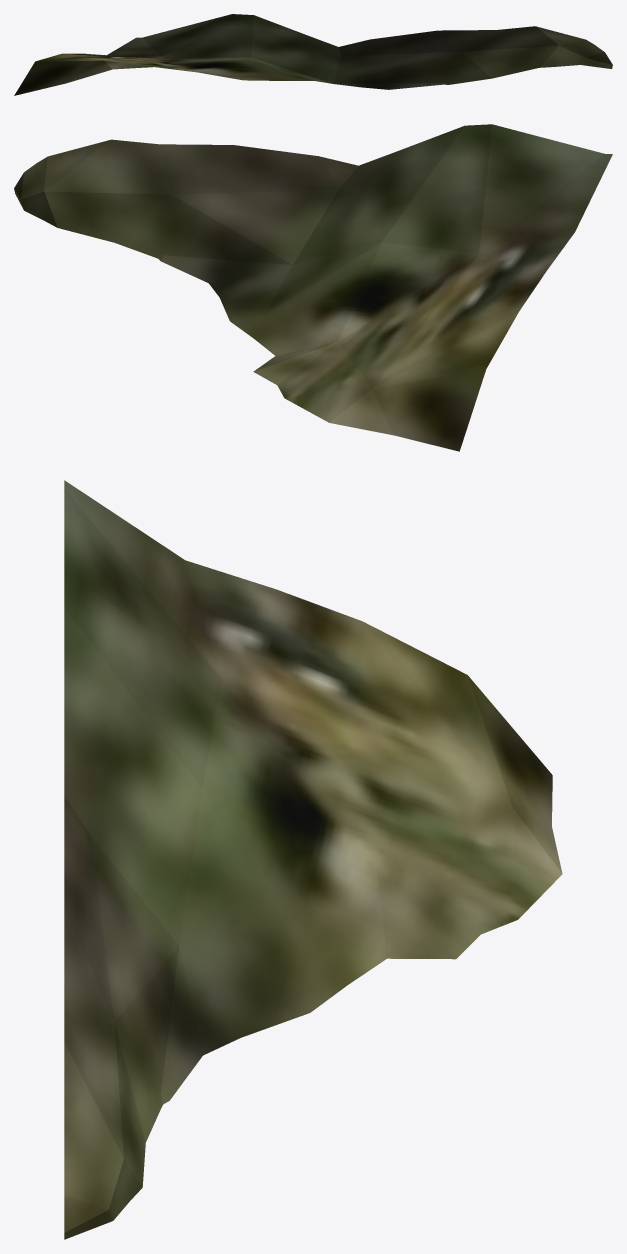
3 views of the same model, one above another, from view 1: azimuth 30°, elevation 25°; view 2: azimuth 150°, elevation 25°; view 3: azimuth 270°, elevation 25° (orthographic). The views are drawn at different scales.
Size of the model in its own units: 0.442 by 0.131 by 0.1999.
1 material, 1 textured.
